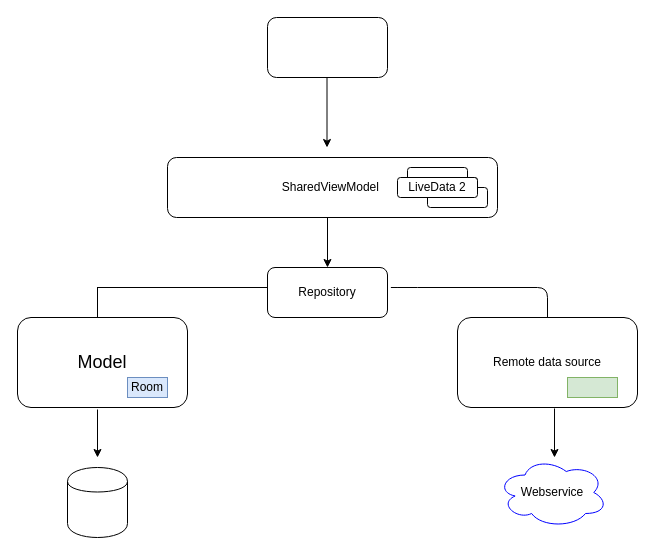
Image size: 655x555. Some labels were removed from this diagram. Here are the shapes that lost their labels. From the top down, the centre of each, then its label:
At point 327,47: "Activity/Fragment".
At point 592,387: "GraphQL".
At point 97,502: "SQLite".
